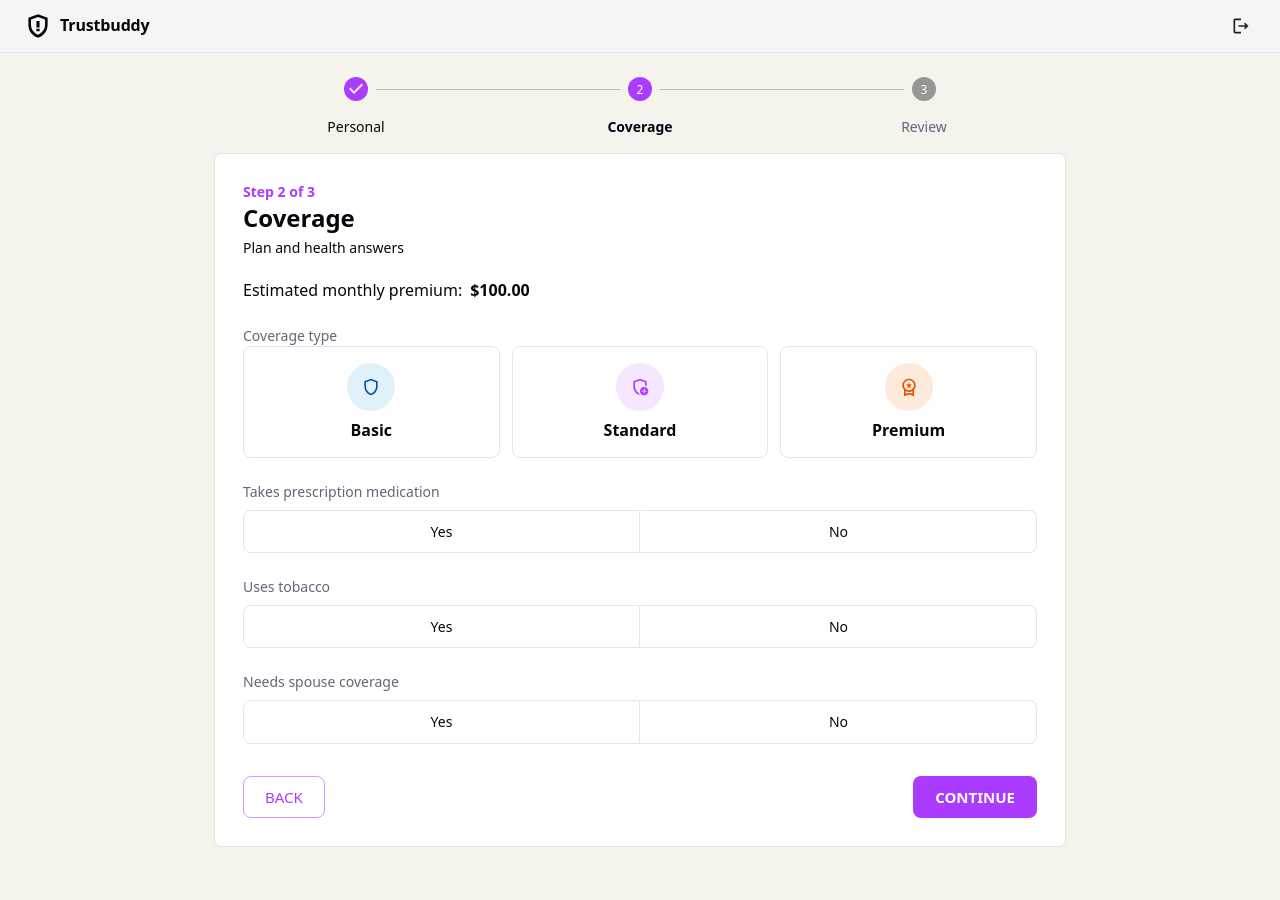
it: wizard routes › given_incompleteCoverage_when_typeChanged_then_updatesPremium
The width and height of the screenshot is (1280, 900).
Expected: the text "$100.00" is shown, [470,278,530,302]
Click the radio button labelled "Standard" at coordinates (640, 402), box [604,363,676,441]
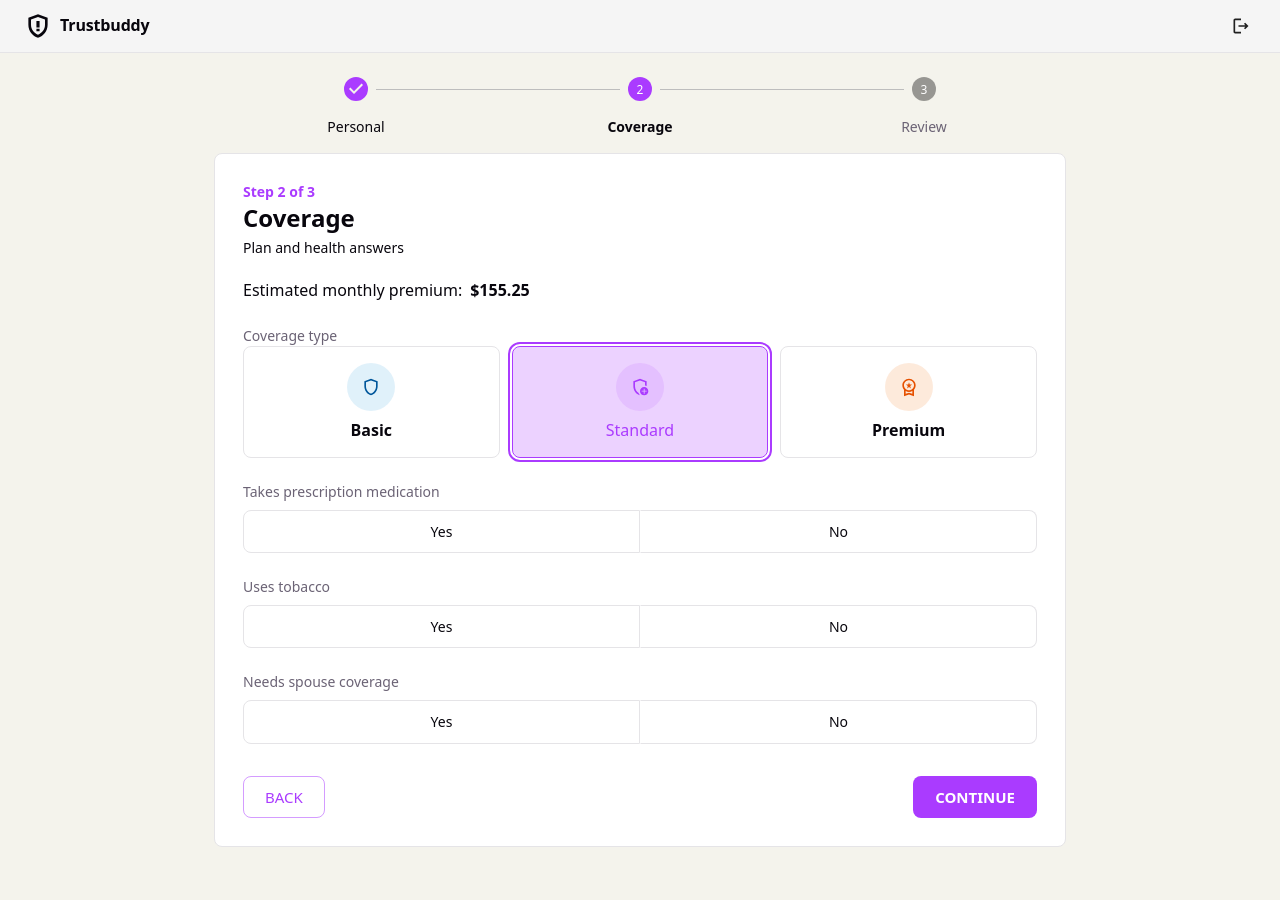
Expected: the button "Continue" is shown, [913,776,1037,818]
Expected: the text "$155.25" is shown, [470,278,530,302]
